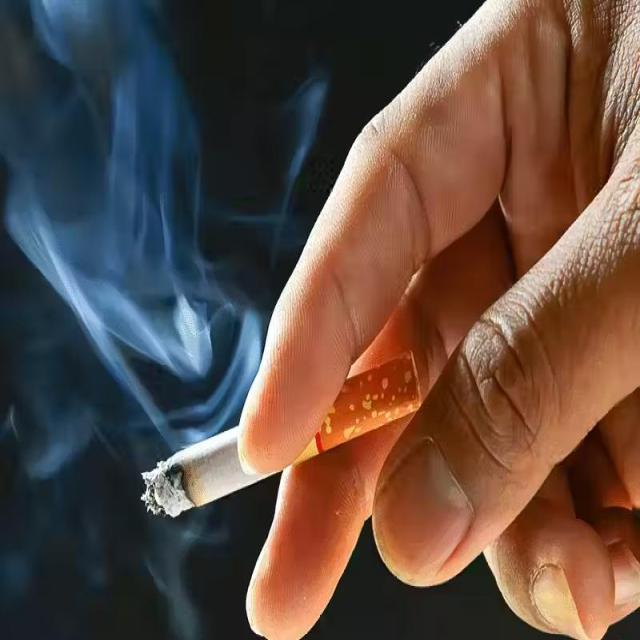cigarette: (287, 352, 422, 467), (140, 427, 284, 519)
